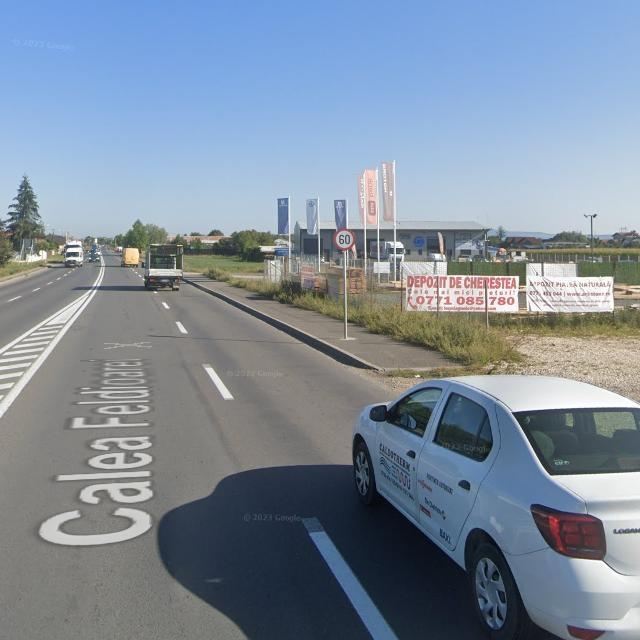forb_speed_over_60: (335, 228, 355, 251)
